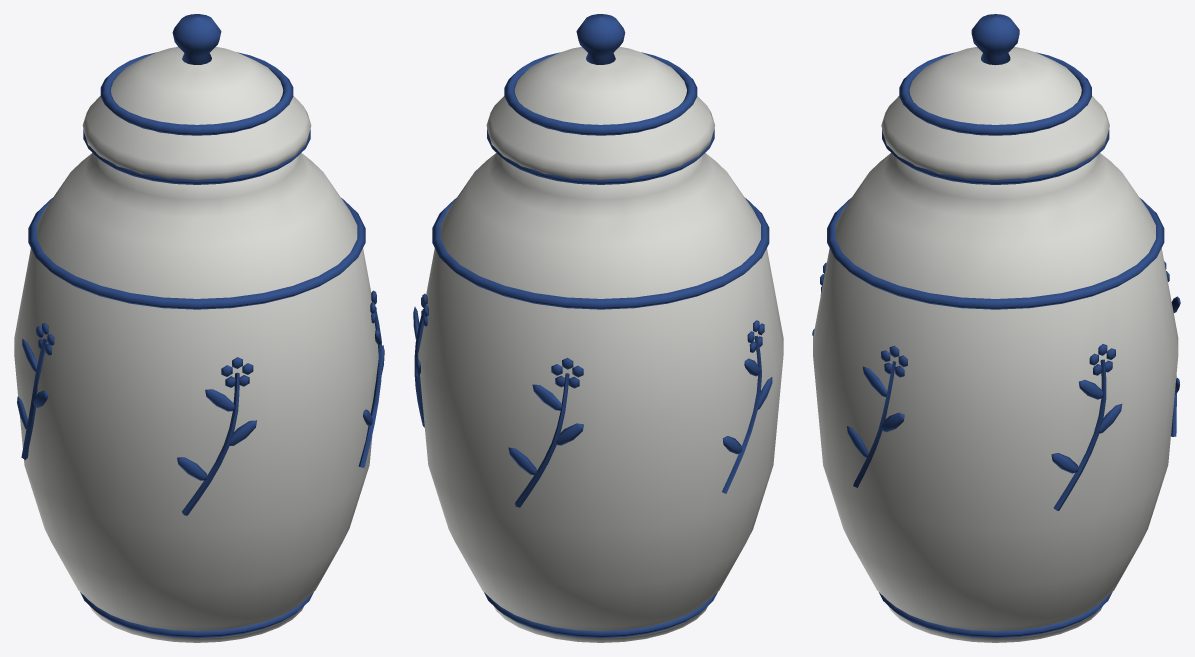
Rendered from urnPorcelain.glb.
3 renders of one model, left to right at view 1: azimuth 30°, elevation 25°; view 2: azimuth 150°, elevation 25°; view 3: azimuth 270°, elevation 25°, orthographic.
Visible parts, largest first — view 1: urnPorcelain; view 2: urnPorcelain; view 3: urnPorcelain.
Boxes of the visible parts, x1,y1,x2,y2 form: urnPorcelain: (14,14,384,642); urnPorcelain: (413,14,783,642); urnPorcelain: (812,14,1180,642).
Bounding box in the file's own units: 0.3632 × 0.626 × 0.3611.
